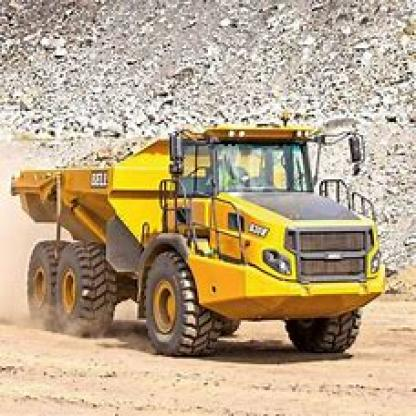dump_truck: (11, 116, 387, 357)
